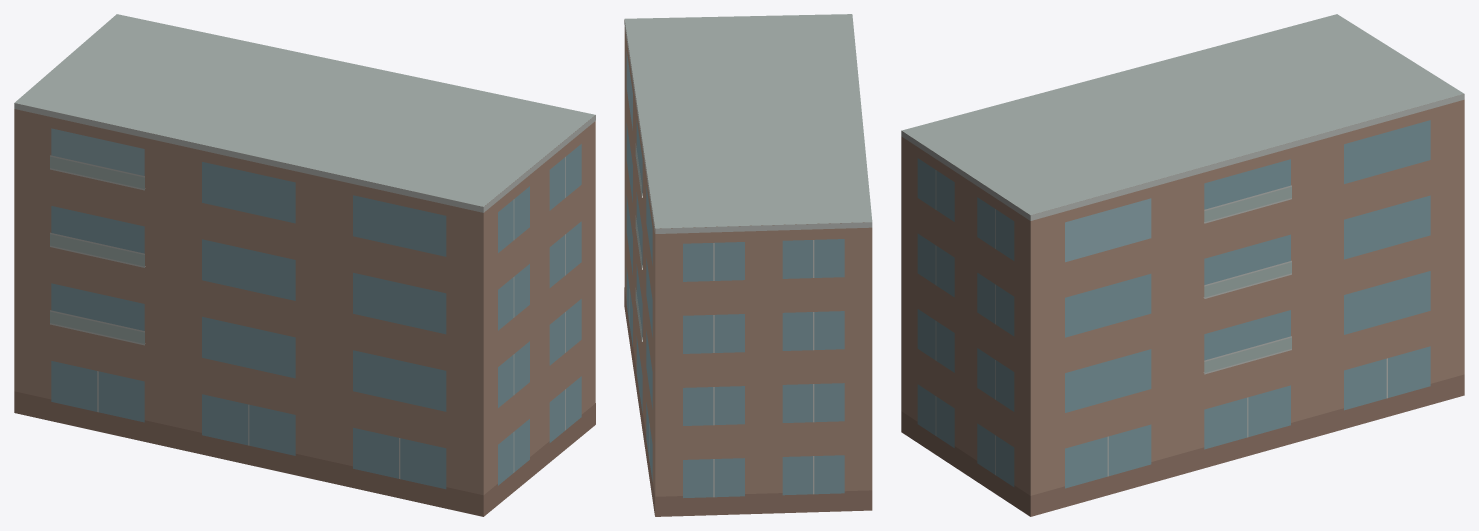
The model's file is survey-upis-32712923.glb.
The picture shows the model from 3 angles, left to right: view 1: azimuth 30°, elevation 25°; view 2: azimuth 150°, elevation 25°; view 3: azimuth 270°, elevation 25°; orthographic projection. The views are drawn at different scales.
Parts seen in each view (by area): view 1: survey-upis-32712923.tmp; view 2: survey-upis-32712923.tmp; view 3: survey-upis-32712923.tmp.
Boxes of the visible parts, <box> form: survey-upis-32712923.tmp: <box>14,14,595,516</box>; survey-upis-32712923.tmp: <box>624,14,872,516</box>; survey-upis-32712923.tmp: <box>901,14,1464,516</box>.
Bounding box in the file's own units: 18.19 × 12.7 × 21.5.
